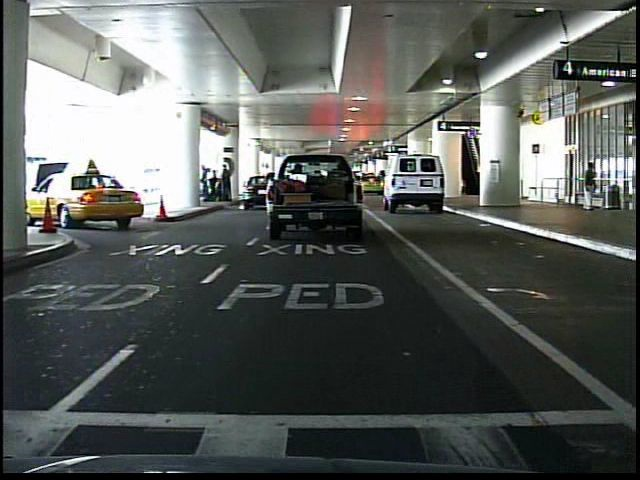person: (578, 161, 599, 215)
